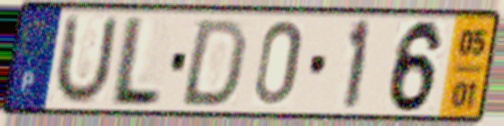0: (251, 17, 306, 110)
1: (339, 16, 372, 113)
6: (383, 17, 448, 116)
D: (176, 16, 252, 109)
L: (104, 13, 165, 109)
U: (48, 11, 121, 108)
